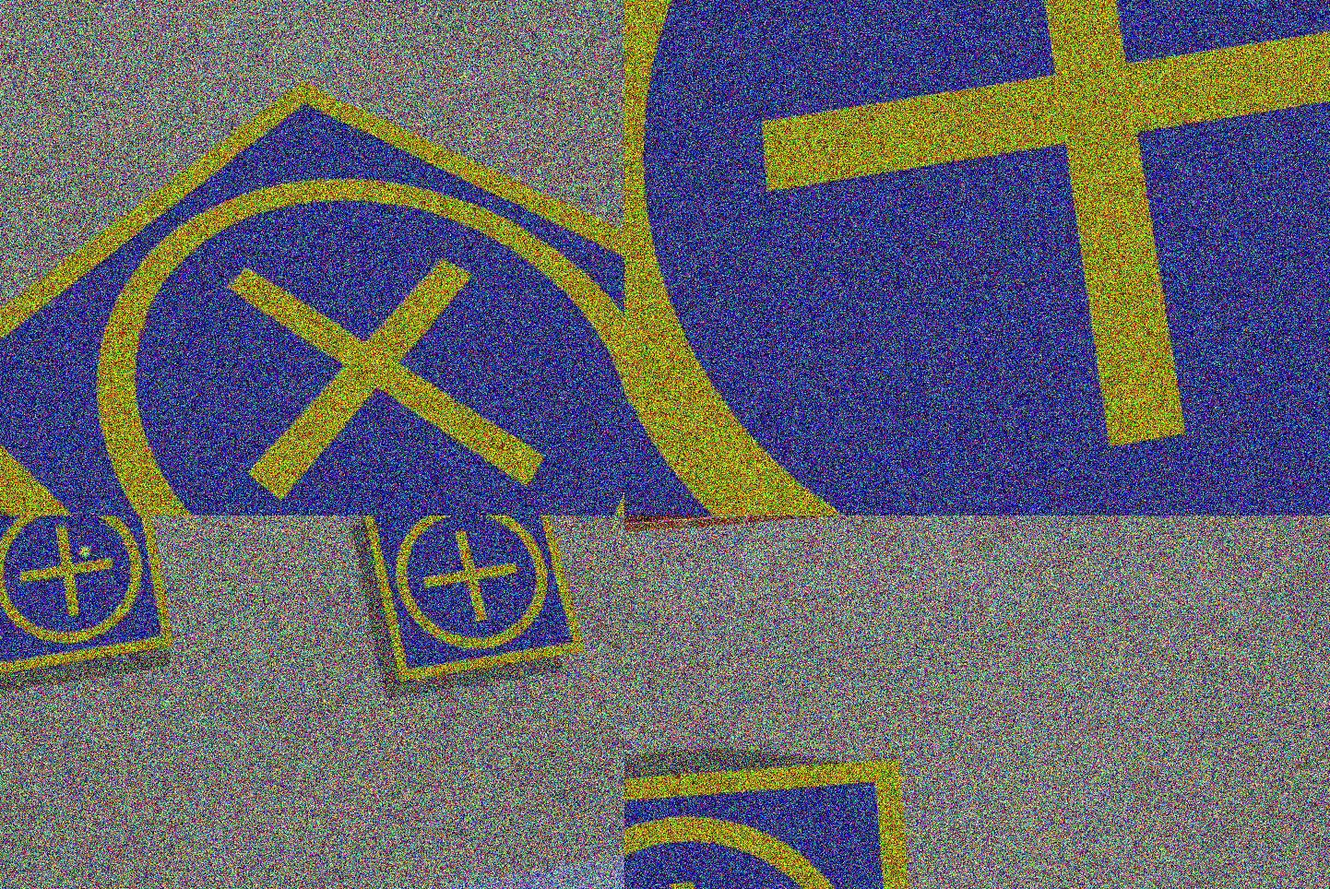small_base: (624, 1, 1330, 516), (1, 49, 624, 516), (356, 516, 588, 687), (1, 516, 175, 682)
